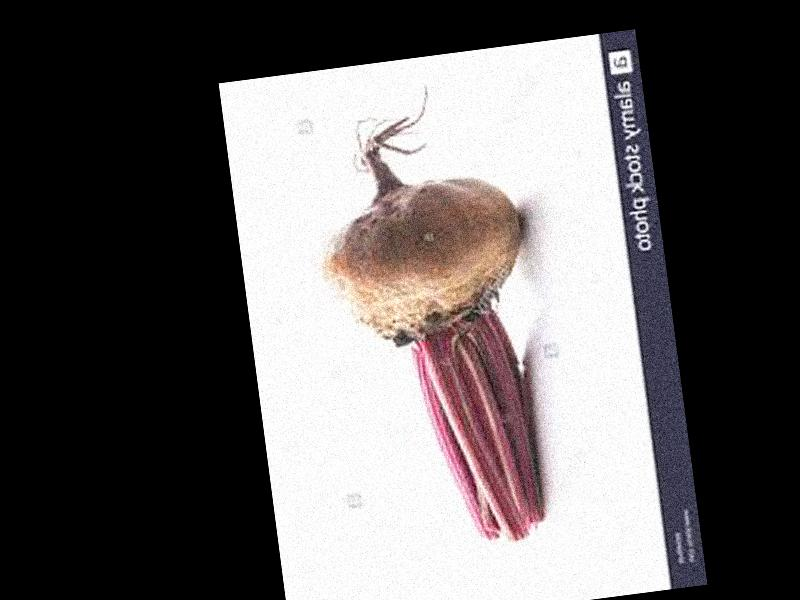Beet: (302, 75, 562, 560)
